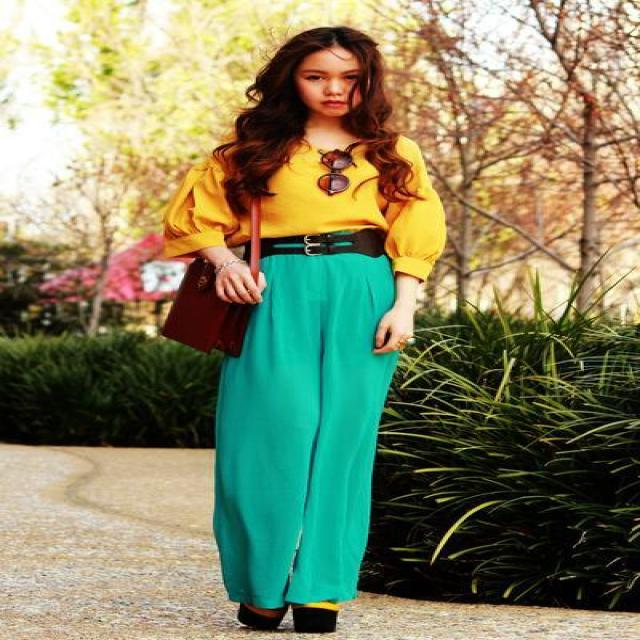bag: (160, 225, 261, 356)
pants: (213, 243, 446, 608)
shirt: (142, 136, 445, 282)
shoe: (237, 600, 344, 632)
sunglass: (318, 142, 358, 195)
